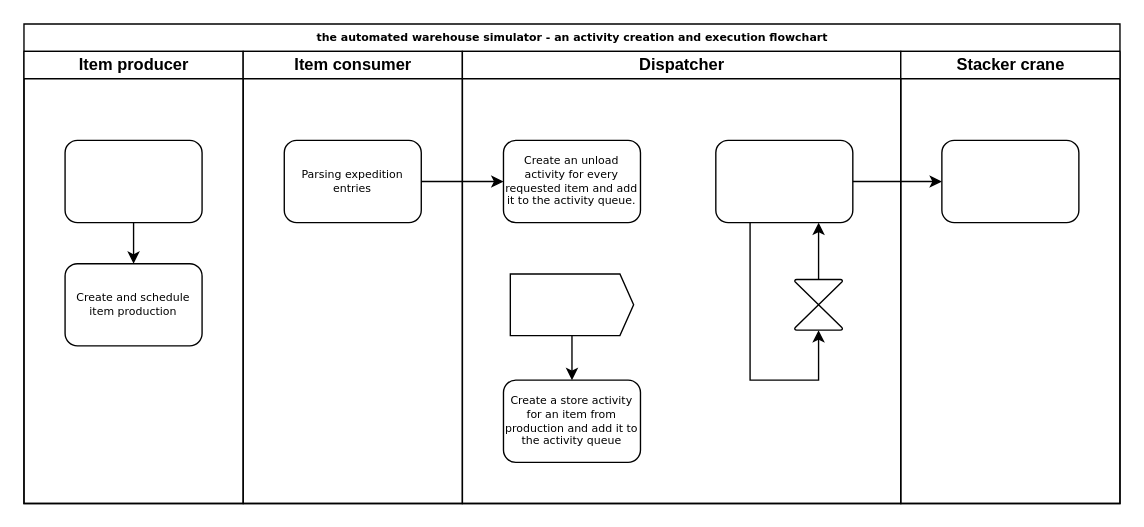
The diagram is 1144 pixels wide and 527 high, and some of its shapes have lost their labels. Here are the shapes that lost their labels. From the top down, the centre of each, then its label:
At (133,181): "Parse production entries".
At (783,181): "Select an activity from the activity queue".
At (1010,181): "Execute an activity".
At (571,304): "An item production is scheduled".
